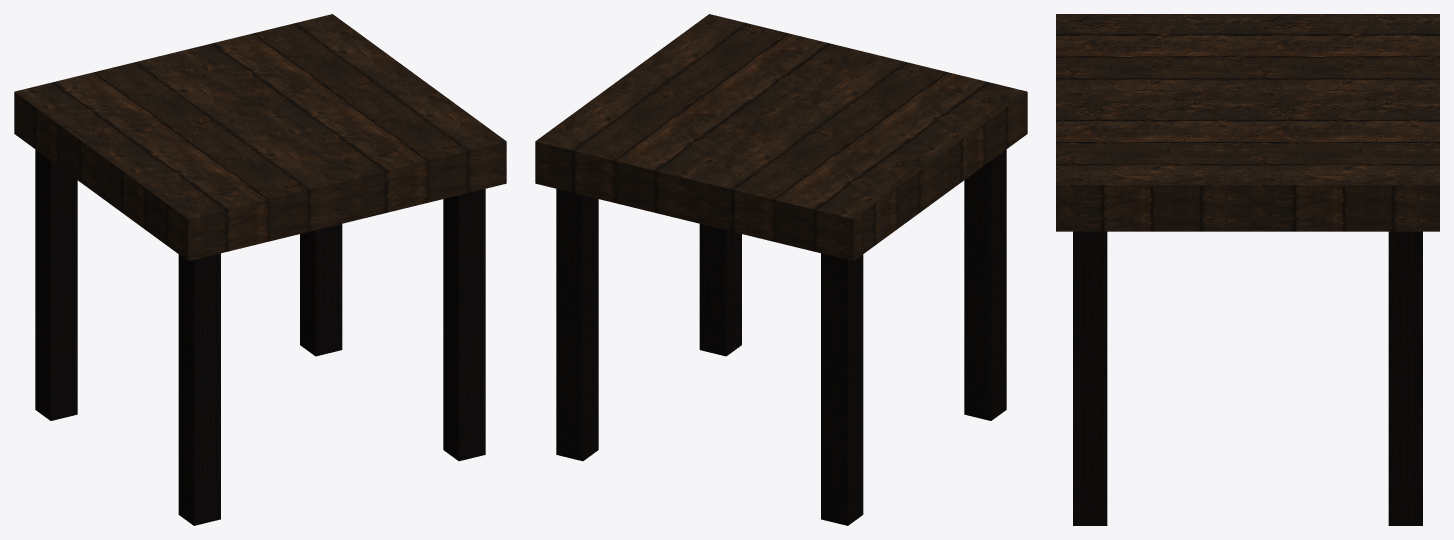
3 renders of one model, left to right at view 1: azimuth 30°, elevation 25°; view 2: azimuth 150°, elevation 25°; view 3: azimuth 270°, elevation 25°, orthographic. The views are drawn at different scales.
Parts seen in each view (by area): view 1: fixture-C-storage-crate; view 2: fixture-C-storage-crate; view 3: fixture-C-storage-crate.
Boxes of the visible parts, x1=… form: fixture-C-storage-crate: x1=14, y1=14, x2=506, y2=525; fixture-C-storage-crate: x1=535, y1=14, x2=1027, y2=525; fixture-C-storage-crate: x1=1056, y1=14, x2=1439, y2=525.
Size of the model in its own units: 0.95 by 0.9 by 0.9.
2 materials, 2 textured.
